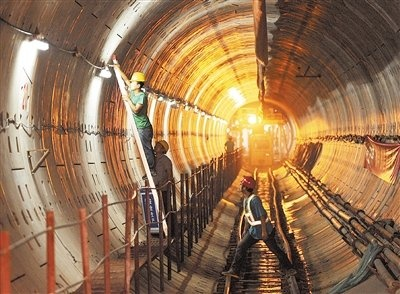red: (238, 175, 256, 195)
yellow: (128, 70, 145, 91), (153, 139, 169, 154)
